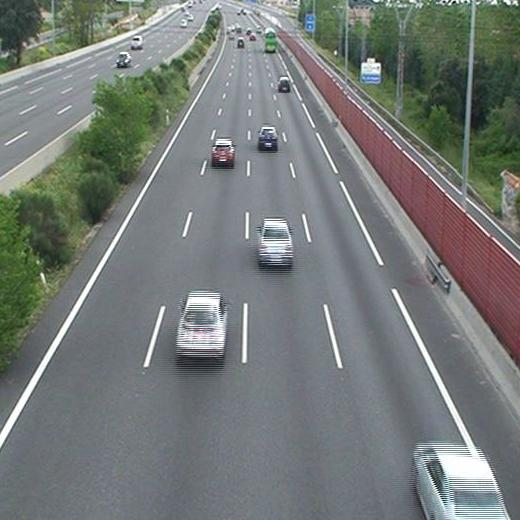bus: (264, 29, 276, 52)
car: (413, 445, 510, 520), (177, 293, 226, 354), (258, 220, 292, 266), (212, 140, 235, 163), (258, 128, 277, 148), (278, 76, 291, 92), (237, 38, 245, 47)
